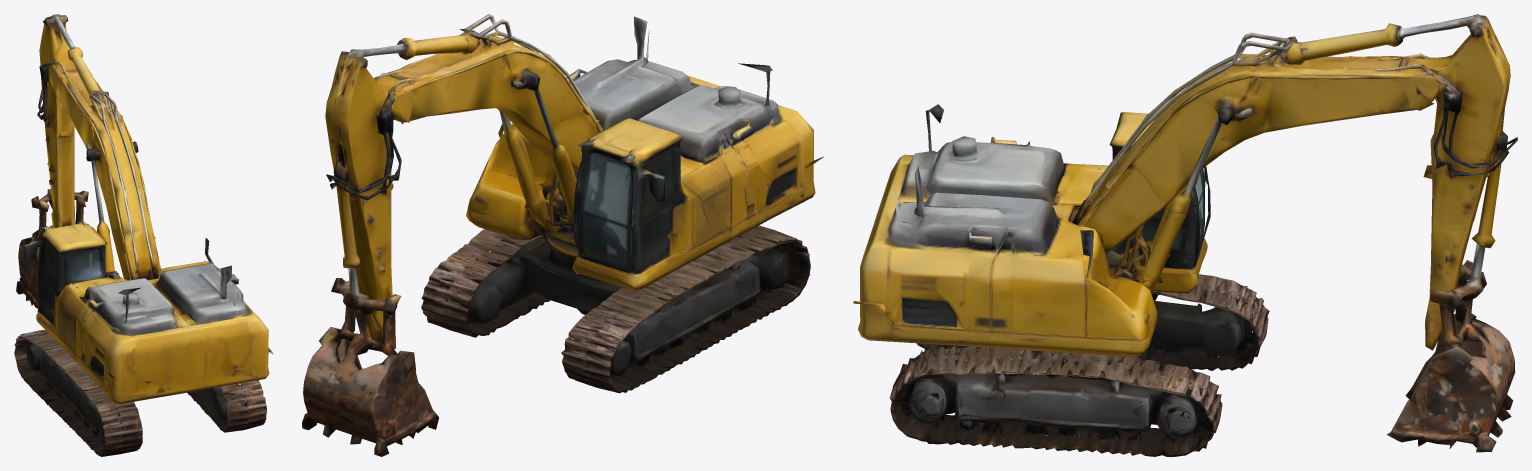
File: qr_excavator.glb
3 views of the same model, side by side, from view 1: azimuth 30°, elevation 25°; view 2: azimuth 150°, elevation 25°; view 3: azimuth 270°, elevation 25° (orthographic). The views are drawn at different scales.
Visible parts, largest first — view 1: tripo_node_e9d5b5d5-123c-47ca-940e-5f446f1f587d; view 2: tripo_node_e9d5b5d5-123c-47ca-940e-5f446f1f587d; view 3: tripo_node_e9d5b5d5-123c-47ca-940e-5f446f1f587d.
Part boxes in pixels (x1,y1,x2,y2): tripo_node_e9d5b5d5-123c-47ca-940e-5f446f1f587d: [14, 14, 273, 456]; tripo_node_e9d5b5d5-123c-47ca-940e-5f446f1f587d: [302, 14, 824, 456]; tripo_node_e9d5b5d5-123c-47ca-940e-5f446f1f587d: [853, 14, 1517, 456].
Size of the model in its own units: 0.4579 by 0.6782 by 0.9824.
Materials: 1 (1 with a texture image).
